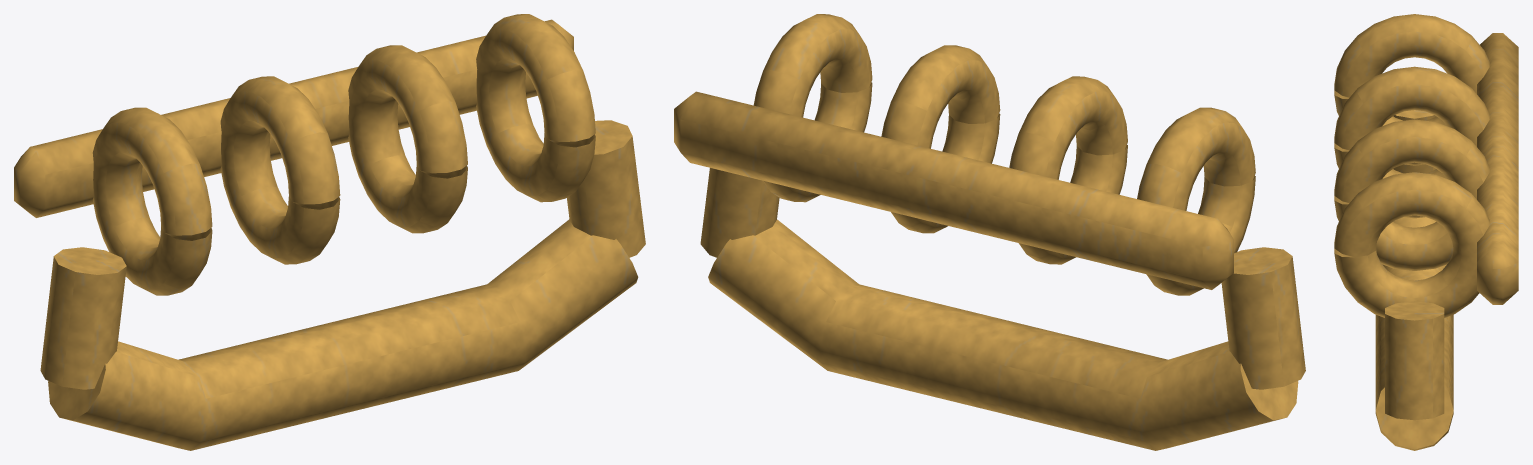
File: brass_knuckles.glb
3 views of the same model, side by side, from view 1: azimuth 30°, elevation 25°; view 2: azimuth 150°, elevation 25°; view 3: azimuth 270°, elevation 25° (orthographic). The views are drawn at different scales.
Visible parts, largest first — view 1: BrassKnuckles_Clean_brass; view 2: BrassKnuckles_Clean_brass; view 3: BrassKnuckles_Clean_brass.
Part boxes in pixels (left/top/right/bottom): BrassKnuckles_Clean_brass: left=14, top=14, right=645, bottom=450; BrassKnuckles_Clean_brass: left=674, top=14, right=1305, bottom=450; BrassKnuckles_Clean_brass: left=1334, top=14, right=1518, bottom=450.
Bounding box in the file's own units: 0.1119 × 0.0609 × 0.0355.
Materials: 1 (1 with a texture image).
